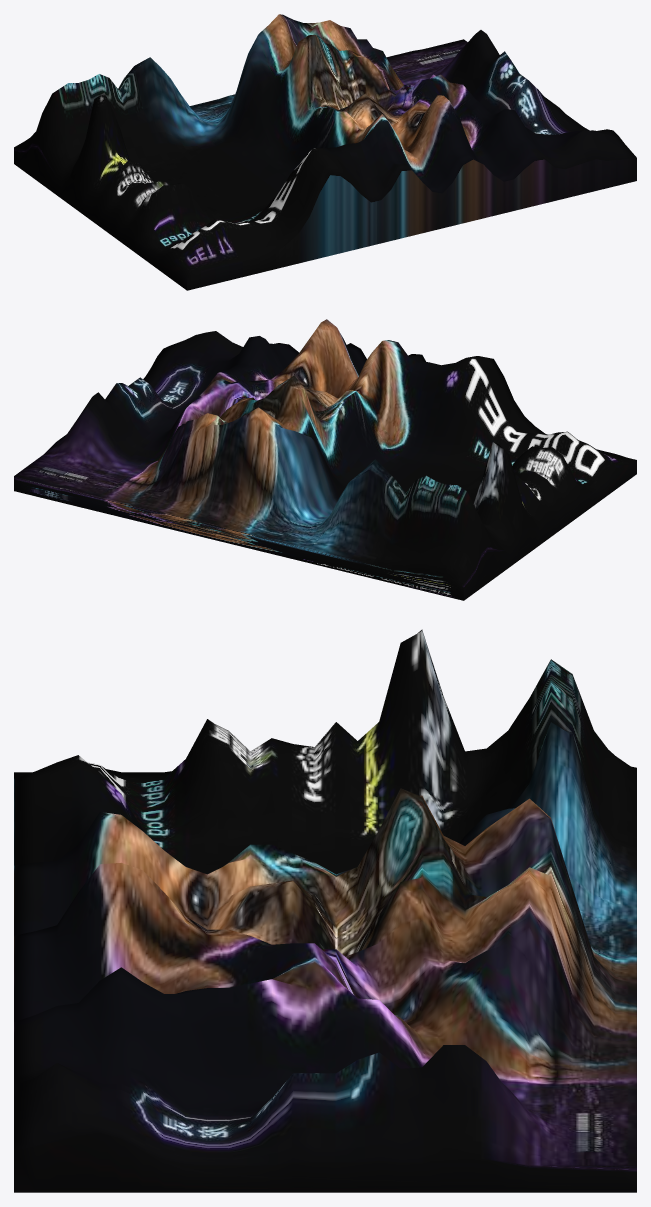
Rendered from PET_17_Dog.glb.
3 renders of one model, top to bottom at view 1: azimuth 30°, elevation 25°; view 2: azimuth 150°, elevation 25°; view 3: azimuth 270°, elevation 25°, orthographic. The views are drawn at different scales.
Parts seen in each view (by area): view 1: PET_17_Dog; view 2: PET_17_Dog; view 3: PET_17_Dog.
Part boxes in pixels (x1,y1,x2,y2): PET_17_Dog: [14, 14, 636, 290]; PET_17_Dog: [14, 319, 636, 600]; PET_17_Dog: [14, 629, 636, 1192].
Bounding box in the file's own units: 2 × 0.51 × 1.33.
1 material, 1 textured.
